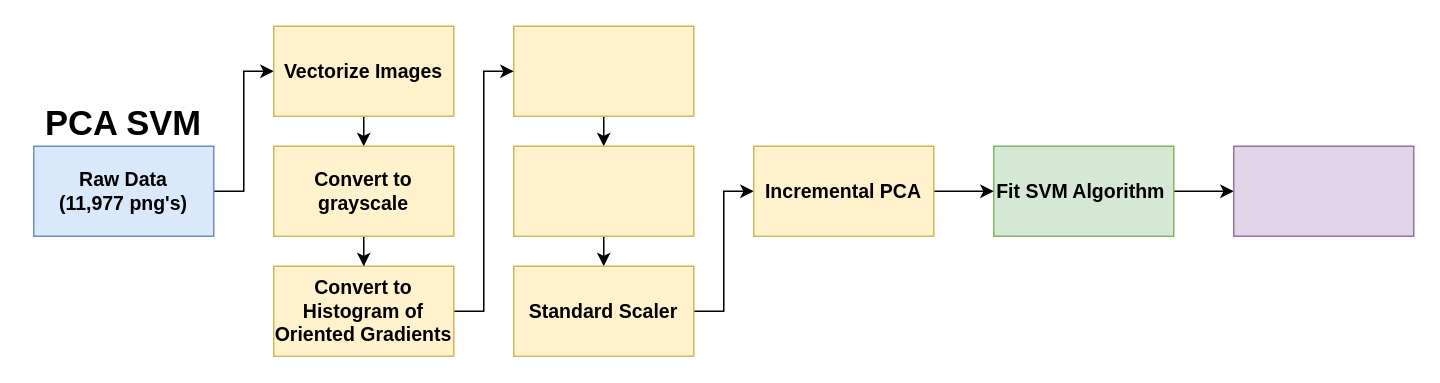
Some shapes in this 1440 by 383 pixel diagram are drawn without their labels. Here are the shapes that lost their labels. From the top down, the box of each, then its label:
(512, 25, 694, 116): L2-Normalization
(512, 145, 694, 236): Train Test Split (70% train, 30% test)
(1232, 145, 1414, 236): Evaluation - Classification Metrics
